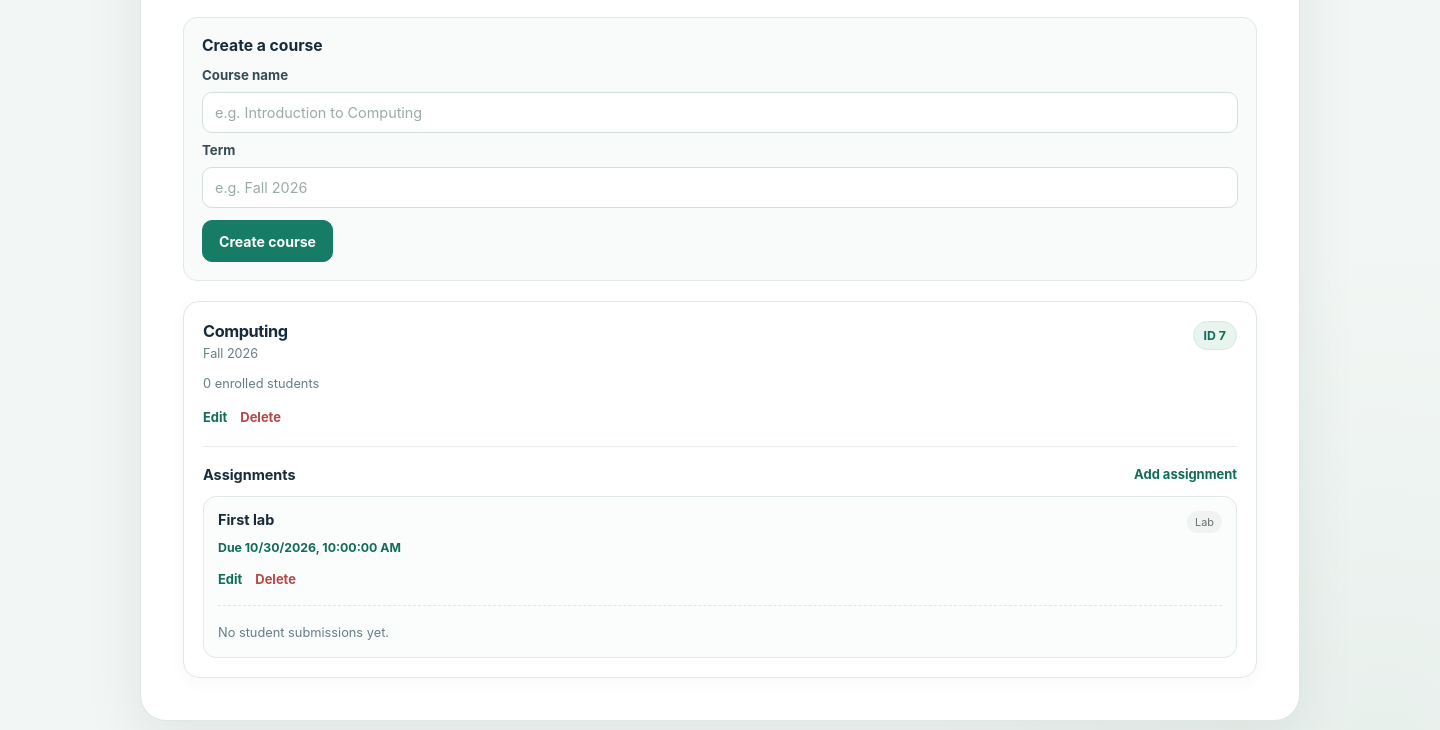
an instructor can edit and delete an assignment
This screenshot has width=1440, height=730.
(page scrolled)
Click the button "Edit" below "Due" at (230, 579), box x1=218 y1=567 x2=242 y2=591
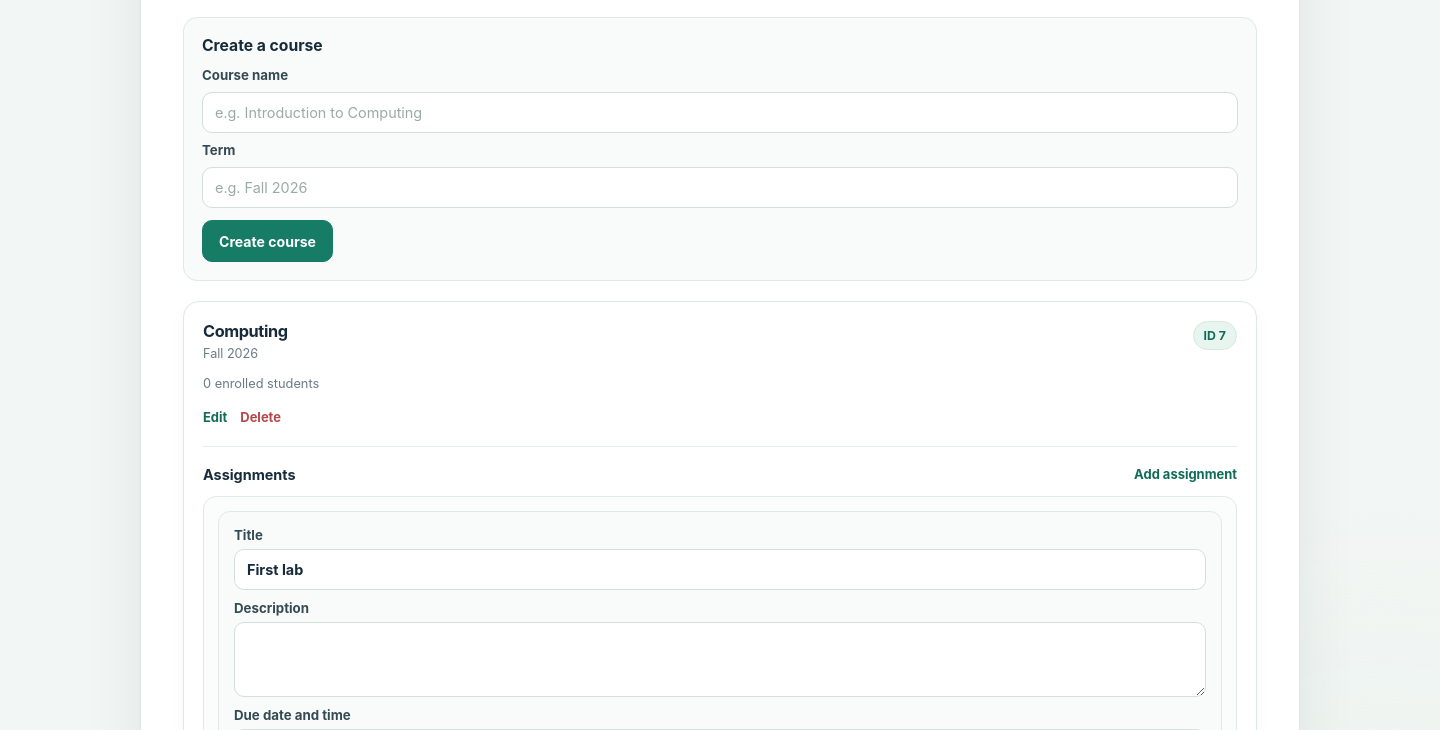
Replace the text in the field labelled "Title" with "Revised lab" at (720, 570), box x1=234 y1=549 x2=1206 y2=590
(page scrolled)
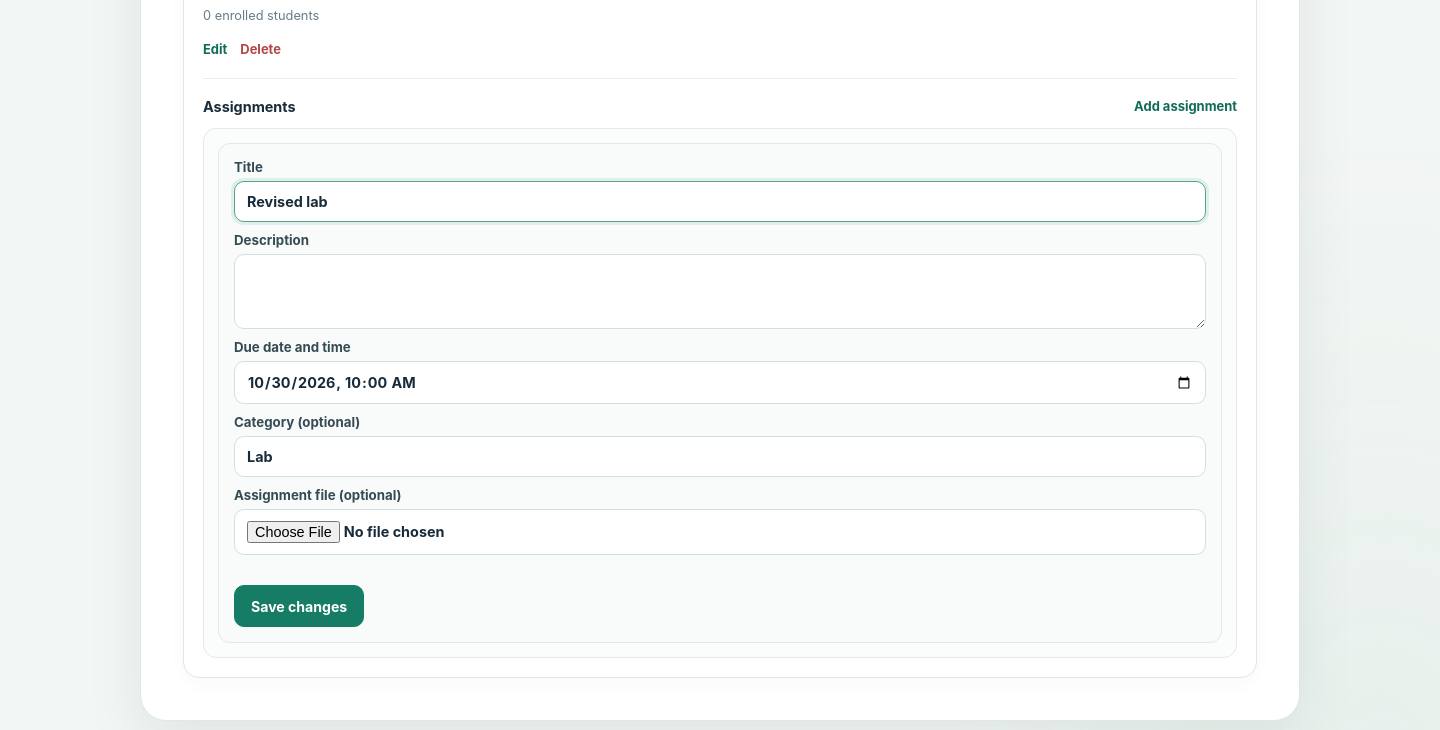
Click the button "Save changes" at (299, 606), box x1=234 y1=585 x2=364 y2=627
(page scrolled)
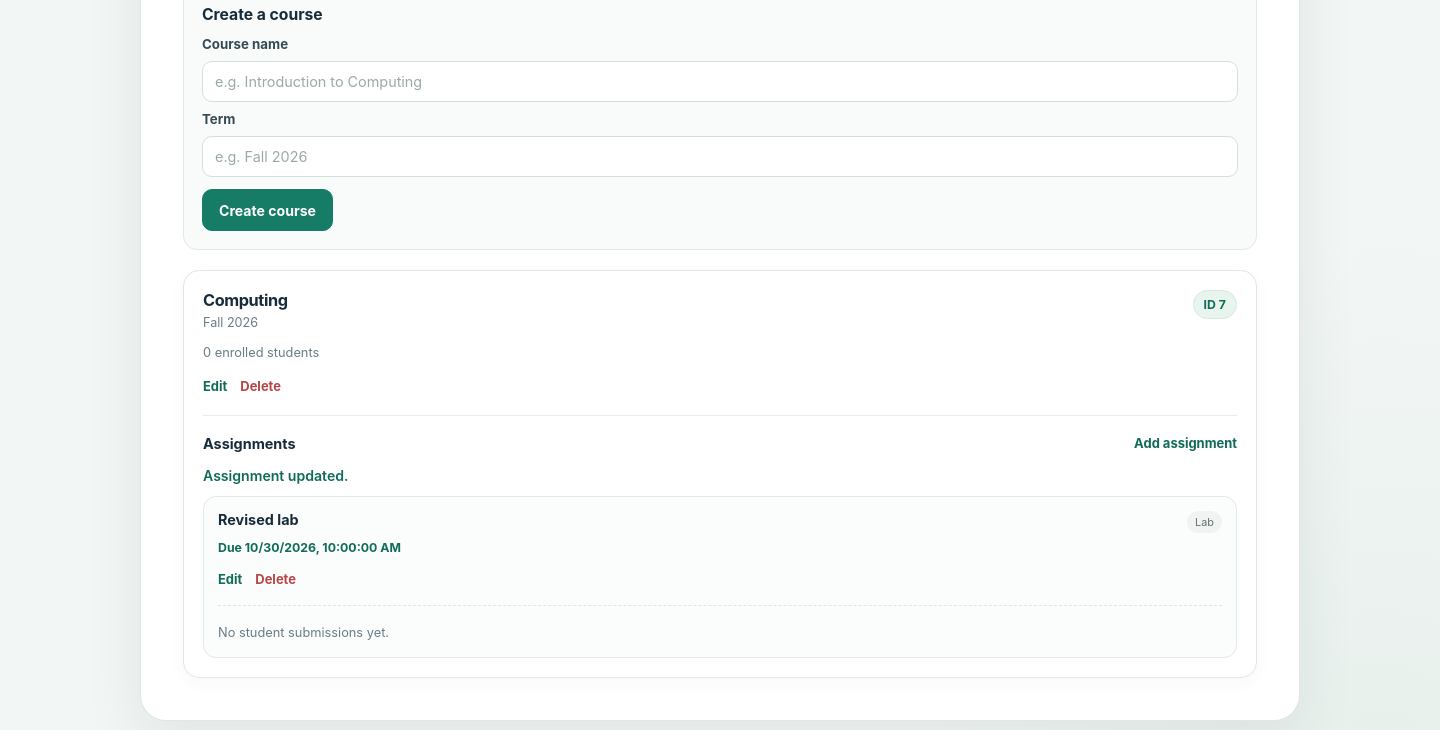
Expected: the text "Assignment updated." is shown, x1=203 y1=467 x2=348 y2=484
Click the button "Delete" below "Due" at (276, 579), box x1=255 y1=567 x2=296 y2=591
(page scrolled)
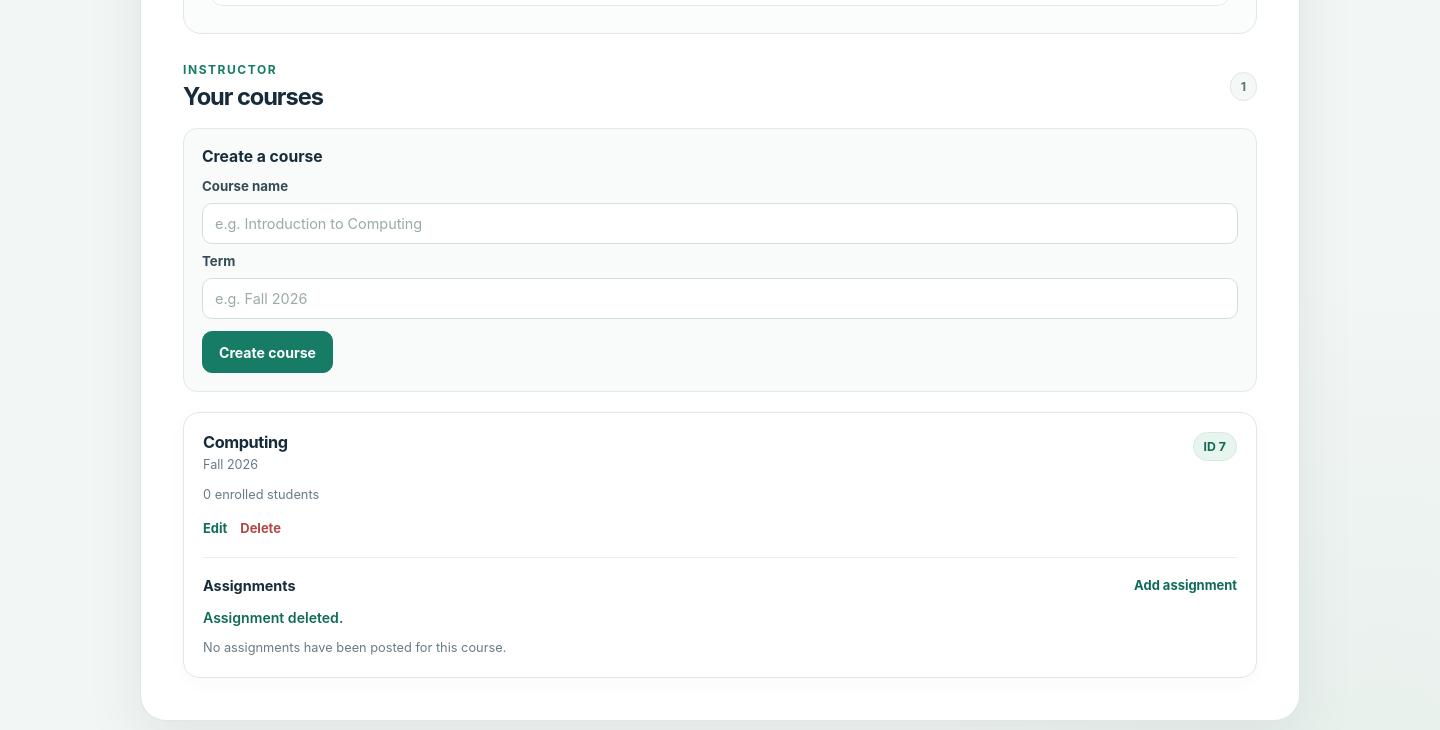
Expected: the text "No assignments have been posted for this course." is shown, x1=203 y1=640 x2=506 y2=655
